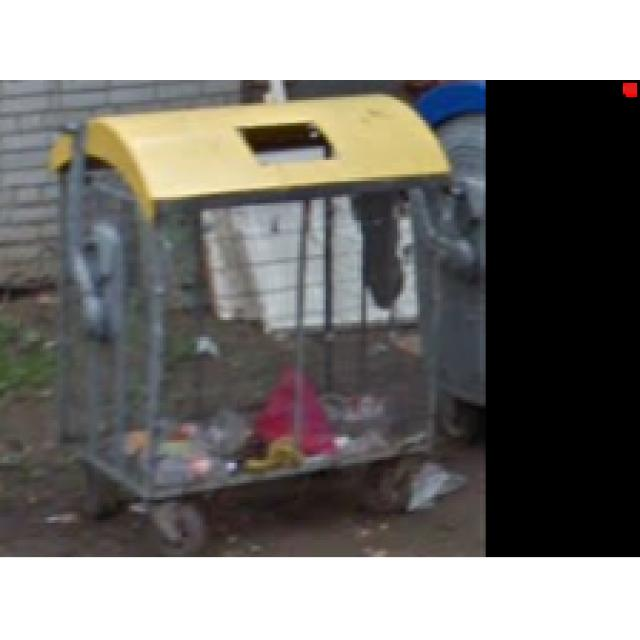plastic trash bin: (44, 101, 448, 524)
